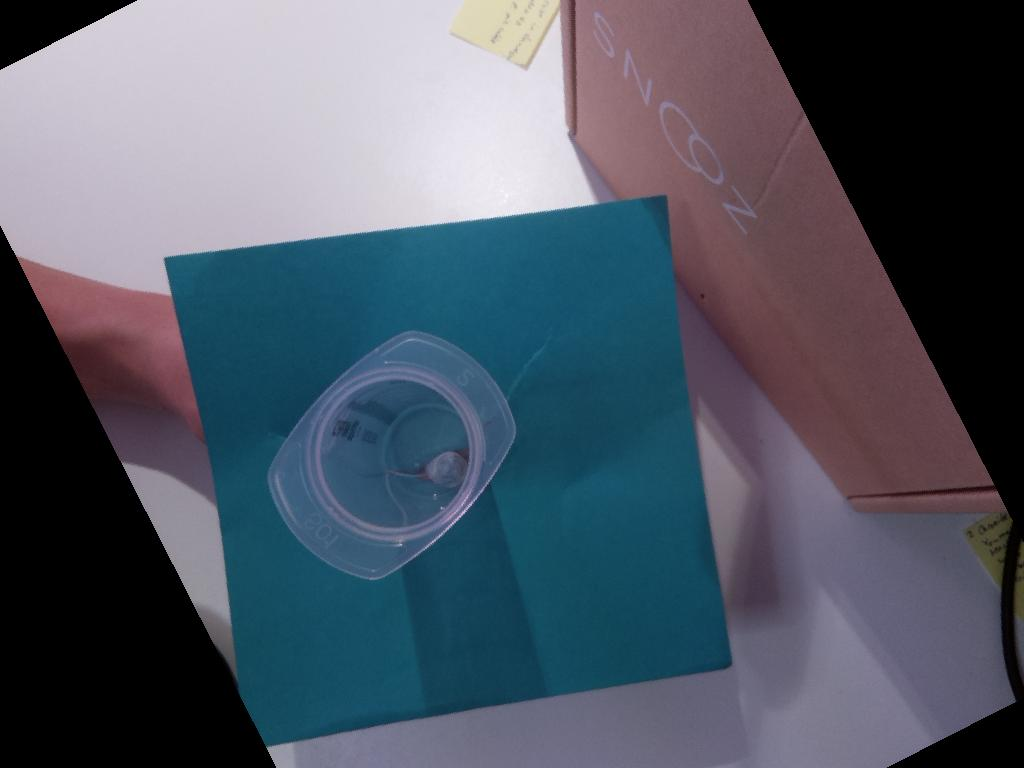clean: (268, 329, 517, 581)
